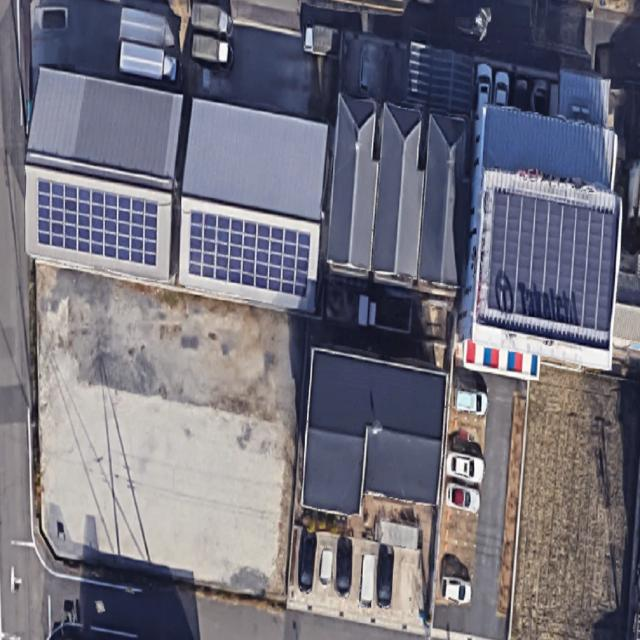Batiment: (471, 106, 621, 368), (26, 67, 182, 281), (179, 98, 328, 311), (302, 349, 446, 514), (372, 104, 425, 279), (328, 94, 379, 275), (419, 114, 465, 285)
